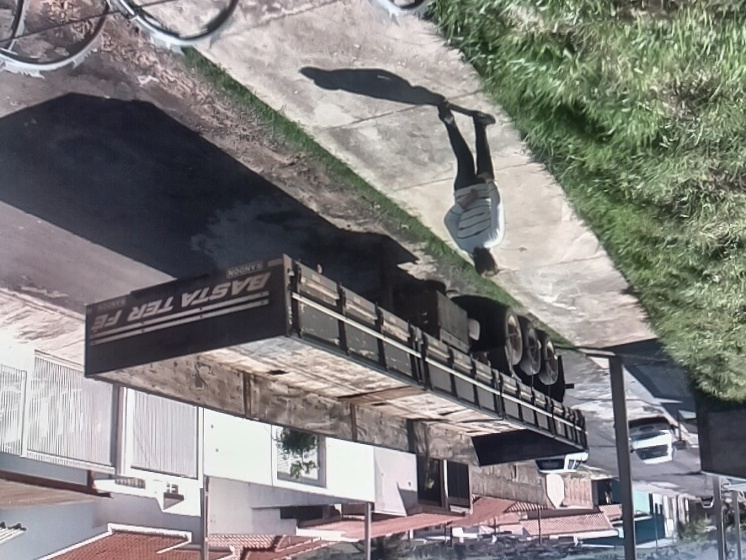person: (434, 94, 506, 279)
